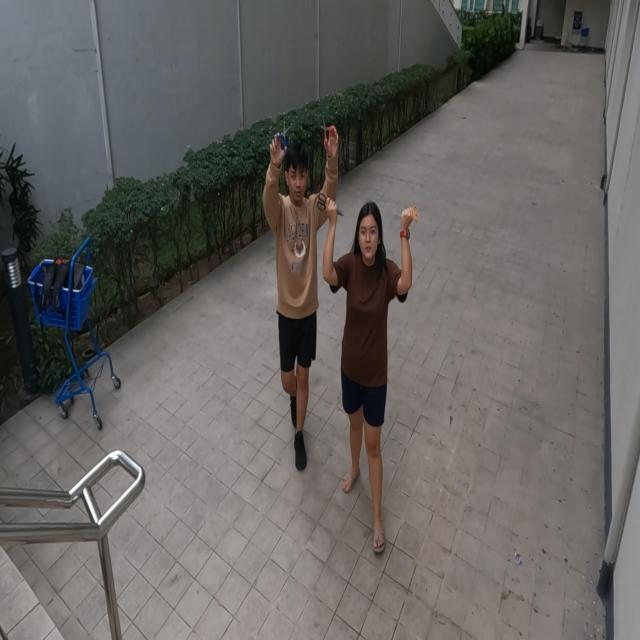scissor: (316, 192, 344, 218), (317, 115, 336, 150), (272, 121, 289, 153), (396, 205, 419, 222)
